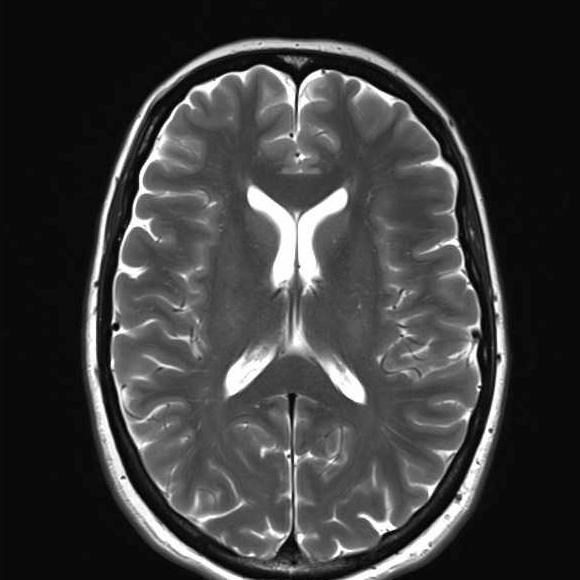Normal_Brain: (1, 1, 580, 580)
